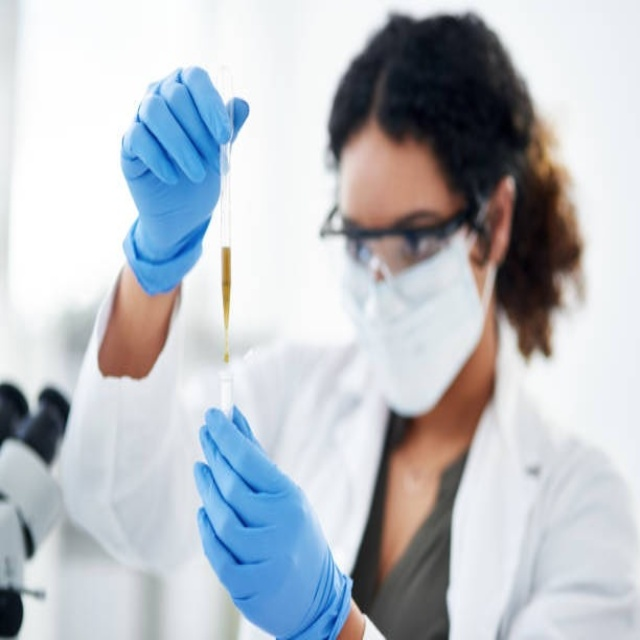Gafas: (320, 187, 486, 274)
Guantes: (195, 400, 353, 640), (118, 63, 249, 295)
Mascara: (336, 201, 493, 417)
